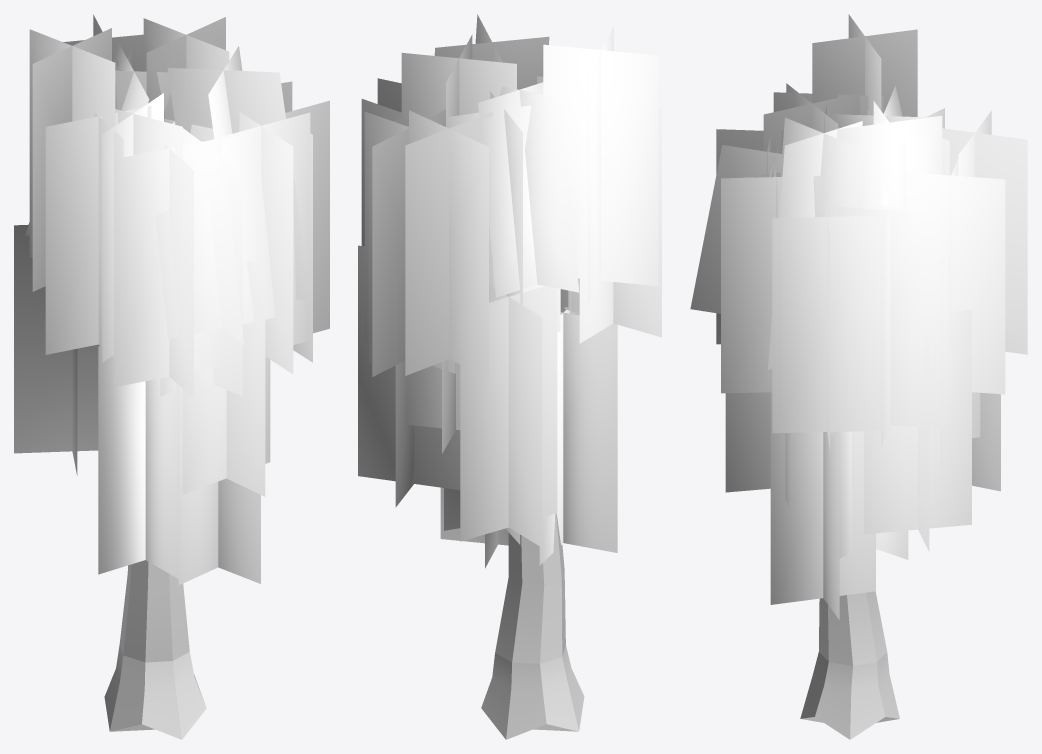
File: SM_Tree_Willow_Small_01_LOD_01.glb
3 views of the same model, side by side, from view 1: azimuth 30°, elevation 25°; view 2: azimuth 150°, elevation 25°; view 3: azimuth 270°, elevation 25° (orthographic). The views are drawn at different scales.
Visible parts, largest first — view 1: SM_Tree_Willow_Small_01_LOD_01; view 2: SM_Tree_Willow_Small_01_LOD_01; view 3: SM_Tree_Willow_Small_01_LOD_01.
Boxes of the visible parts, x1,y1,x2,y2 form: SM_Tree_Willow_Small_01_LOD_01: [14, 14, 329, 739]; SM_Tree_Willow_Small_01_LOD_01: [358, 14, 661, 739]; SM_Tree_Willow_Small_01_LOD_01: [690, 14, 1027, 739].
Bounding box in the file's own units: 2.12 × 4.9 × 2.28.
1 material, 1 textured.
